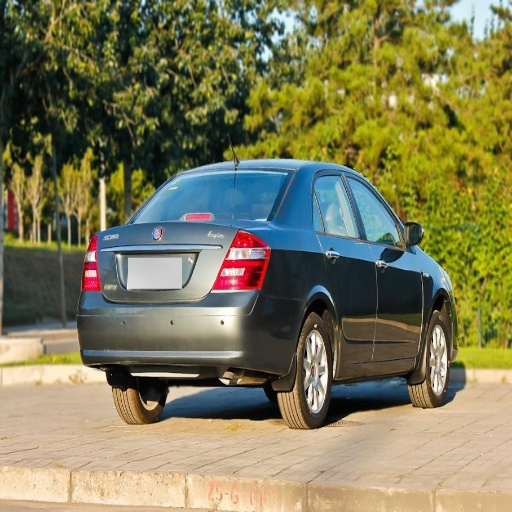back_bumper: (78, 288, 299, 379)
back_right_door: (310, 168, 376, 374)
